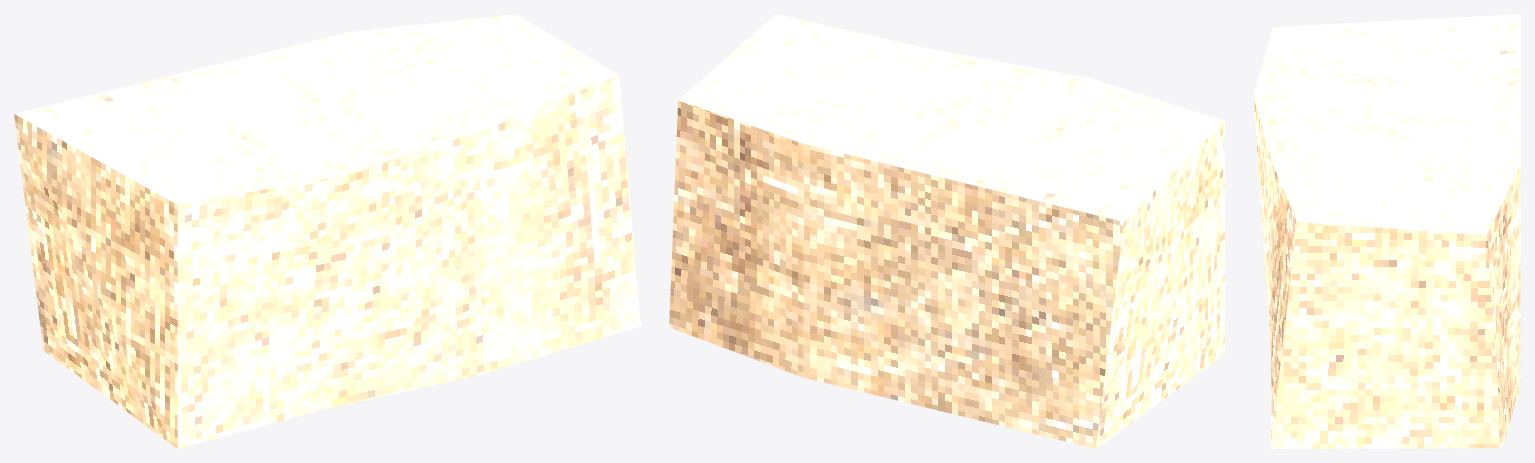
Rendered from Haybale_Var3.glb.
The picture shows the model from 3 angles, left to right: view 1: azimuth 30°, elevation 25°; view 2: azimuth 150°, elevation 25°; view 3: azimuth 270°, elevation 25°; orthographic projection. The views are drawn at different scales.
Parts seen in each view (by area): view 1: Haybale_Variant_3; view 2: Haybale_Variant_3; view 3: Haybale_Variant_3.
Part boxes in pixels (x1=…): Haybale_Variant_3: x1=14, y1=14, x2=640, y2=448; Haybale_Variant_3: x1=669, y1=14, x2=1224, y2=448; Haybale_Variant_3: x1=1253, y1=14, x2=1520, y2=448.
Bounding box in the file's own units: 2.85 × 1.41 × 1.46.
